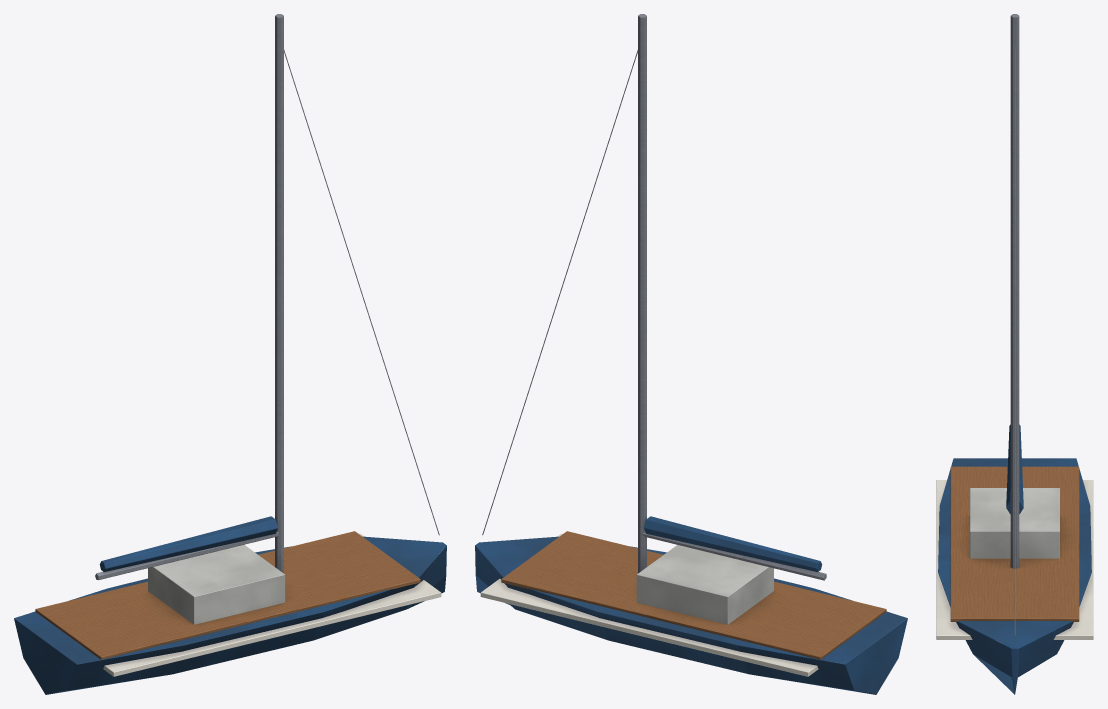
The model's file is segelbat_bla_tex.glb.
3 views of the same model, side by side, from view 1: azimuth 30°, elevation 25°; view 2: azimuth 150°, elevation 25°; view 3: azimuth 270°, elevation 25° (orthographic). The views are drawn at different scales.
Parts seen in each view (by area): view 1: segelbat_bla; view 2: segelbat_bla; view 3: segelbat_bla.
Boxes of the visible parts, left/top/right/bottom form: segelbat_bla: left=14, top=14, right=446, bottom=694; segelbat_bla: left=475, top=14, right=907, bottom=694; segelbat_bla: left=936, top=14, right=1093, bottom=694.
Bounding box in the file's own units: 7 × 10.55 × 2.45.
5 materials, 5 textured.
